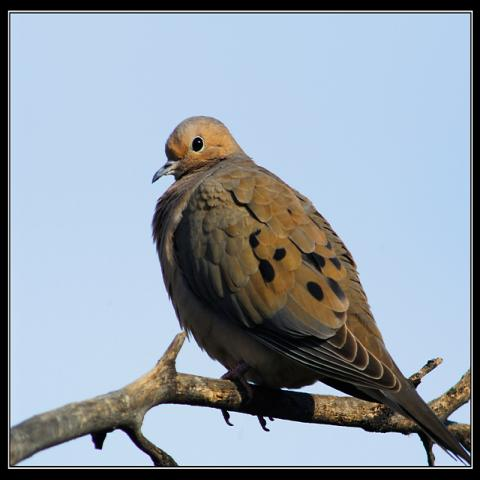bird: (149, 113, 470, 464)
